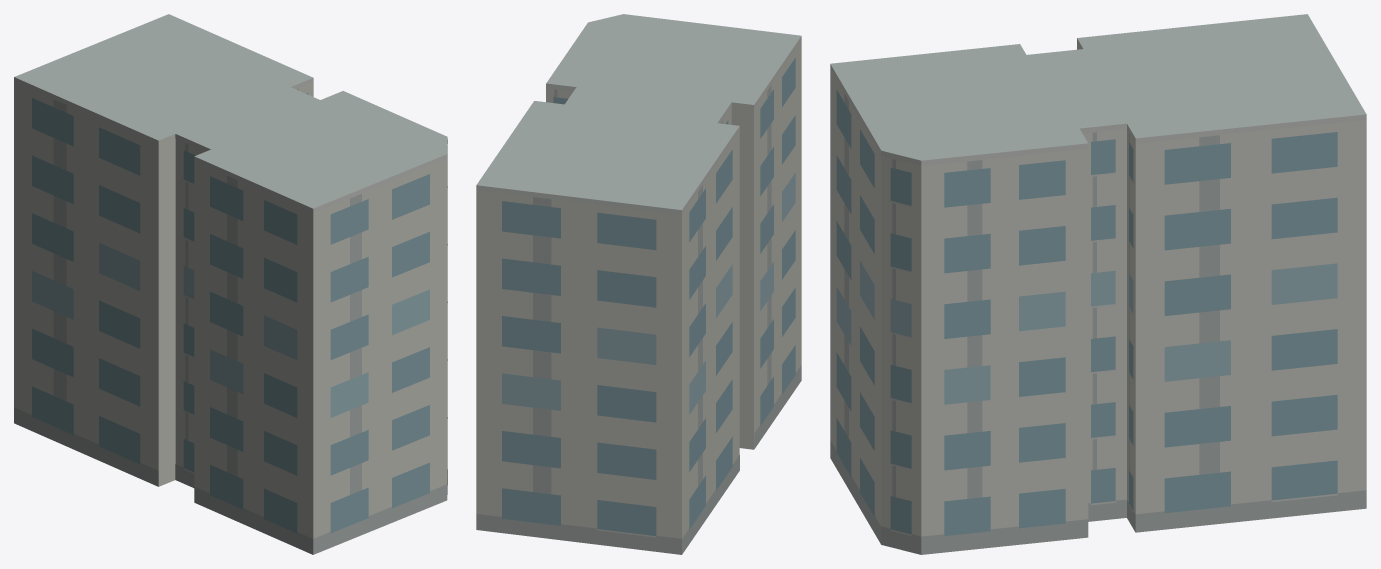
File: survey-upis-32631209.glb
3 renders of one model, left to right at view 1: azimuth 30°, elevation 25°; view 2: azimuth 150°, elevation 25°; view 3: azimuth 270°, elevation 25°, orthographic. The views are drawn at different scales.
Visible parts, largest first — view 1: survey-upis-32631209.tmp; view 2: survey-upis-32631209.tmp; view 3: survey-upis-32631209.tmp.
Part boxes in pixels (x1,y1,x2,y2): survey-upis-32631209.tmp: (14, 14, 447, 554); survey-upis-32631209.tmp: (476, 14, 801, 554); survey-upis-32631209.tmp: (830, 14, 1366, 554).
Bounding box in the file's own units: 13.73 × 17.2 × 21.22.
